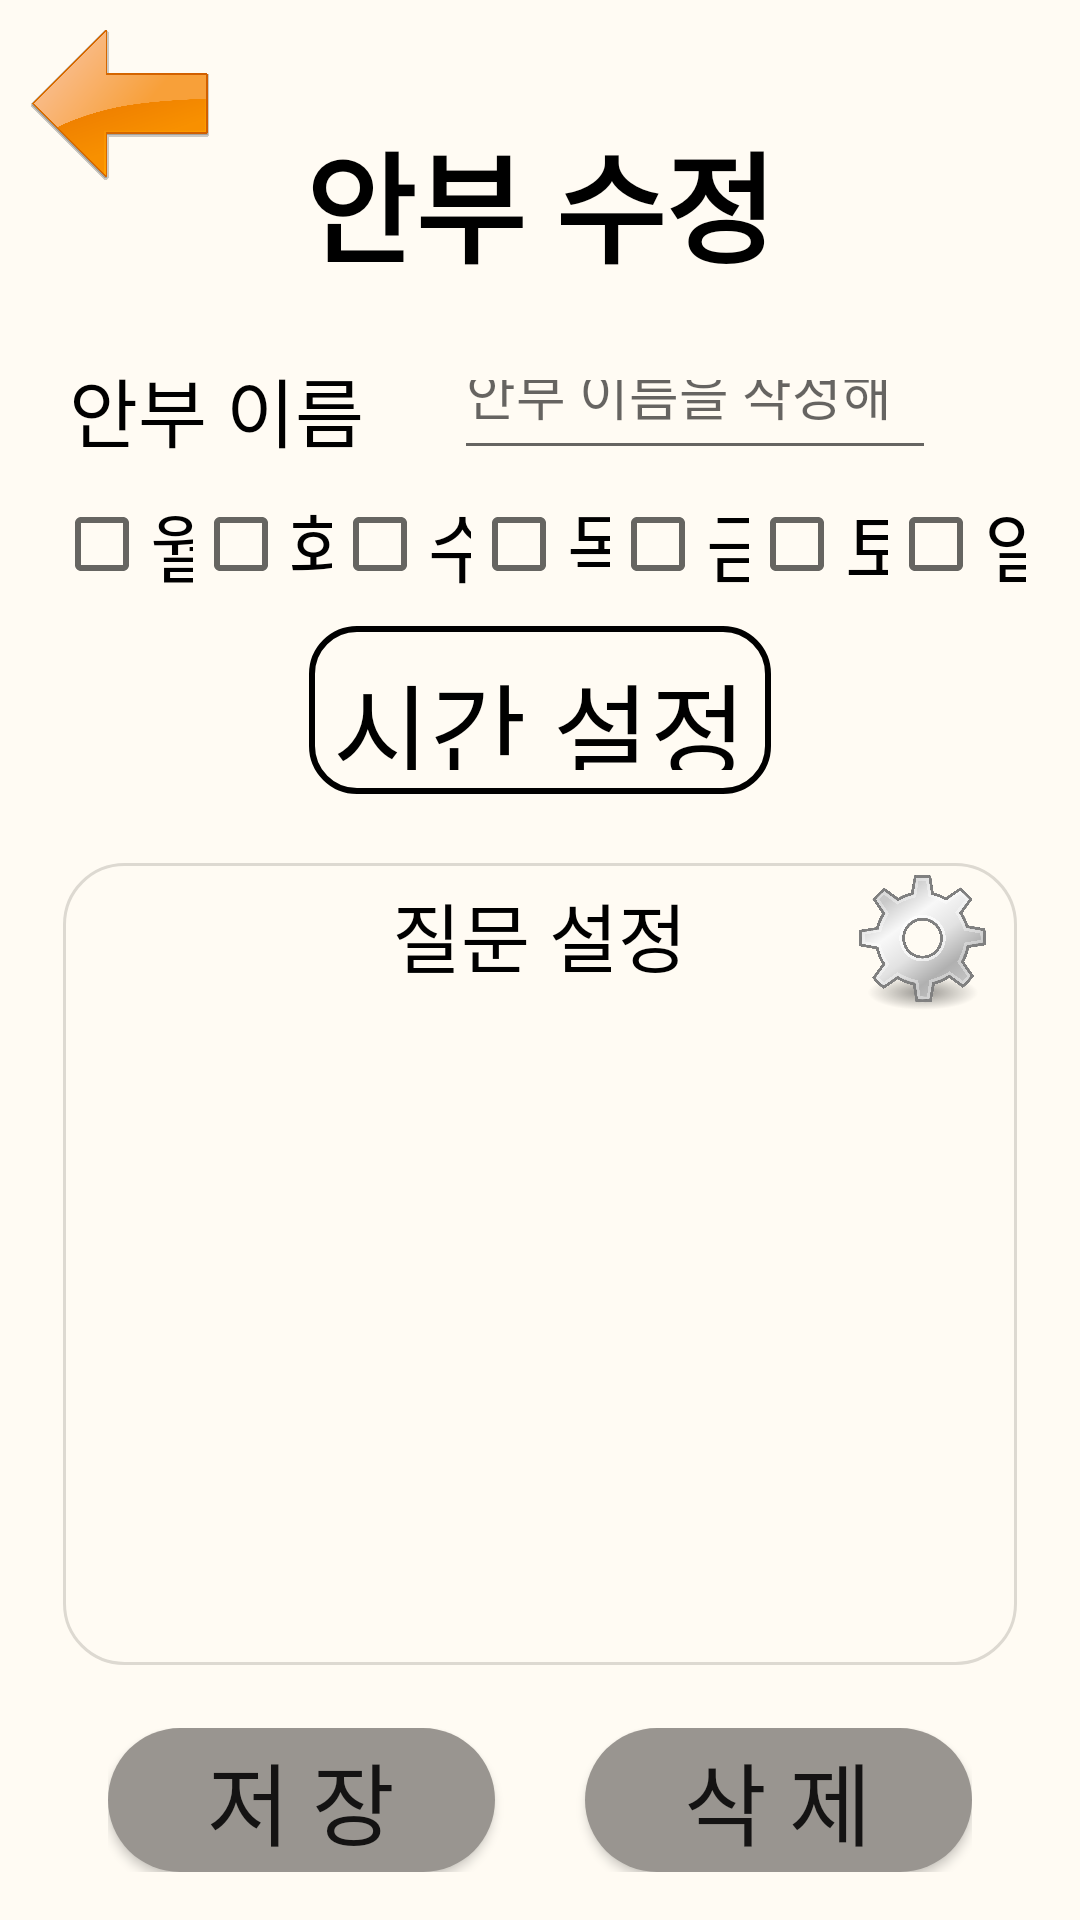

Named icons in this screenshot (1080px×1920px) and their bounding boxes, [x1=x1, y1=y1, x2=x2, y2=y2]:
backbtn: [x1=31, y1=30, x2=209, y2=180]
optionbtn: [x1=859, y1=875, x2=986, y2=1006]
